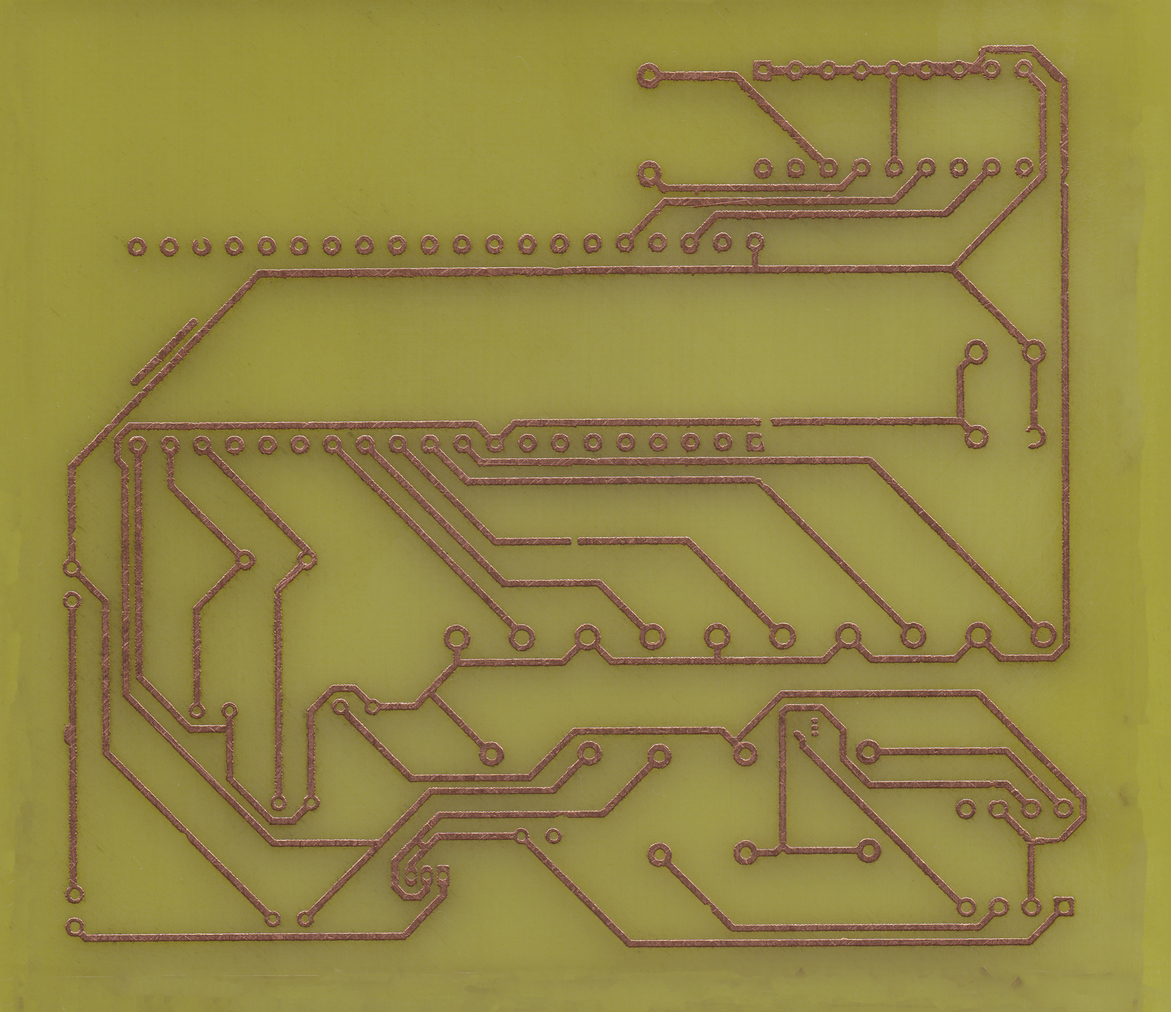missing_hole: (1022, 422, 1049, 451), (191, 235, 212, 259), (745, 431, 766, 454)
mouse_bite: (178, 828, 196, 845), (1060, 170, 1074, 191), (551, 810, 573, 823), (701, 900, 717, 917), (68, 526, 77, 543)
open_circuit: (755, 413, 779, 431), (566, 534, 584, 548)
short: (410, 828, 437, 859)
spur: (60, 720, 81, 752)
spurious_copper: (126, 315, 203, 389)
